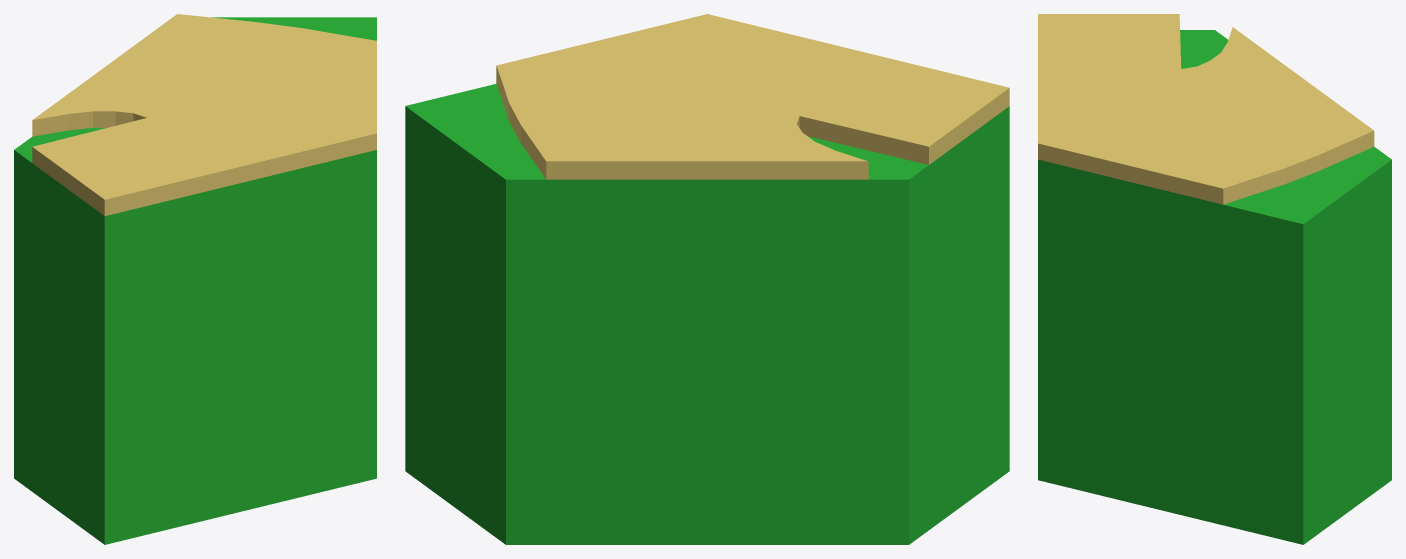
Rendered from module-corner_land_path_fork_001.glb.
The picture shows the model from 3 angles, left to right: view 1: azimuth 30°, elevation 25°; view 2: azimuth 150°, elevation 25°; view 3: azimuth 270°, elevation 25°; orthographic projection. The views are drawn at different scales.
Visible parts, largest first — view 1: module-corner_land_path_fork_001; view 2: module-corner_land_path_fork_001; view 3: module-corner_land_path_fork_001.
Boxes of the visible parts, x1=… form: module-corner_land_path_fork_001: x1=14, y1=14, x2=376, y2=544; module-corner_land_path_fork_001: x1=405, y1=14, x2=1009, y2=544; module-corner_land_path_fork_001: x1=1038, y1=14, x2=1391, y2=544.
Bounding box in the file's own units: 0.6495 × 0.525 × 0.5.
